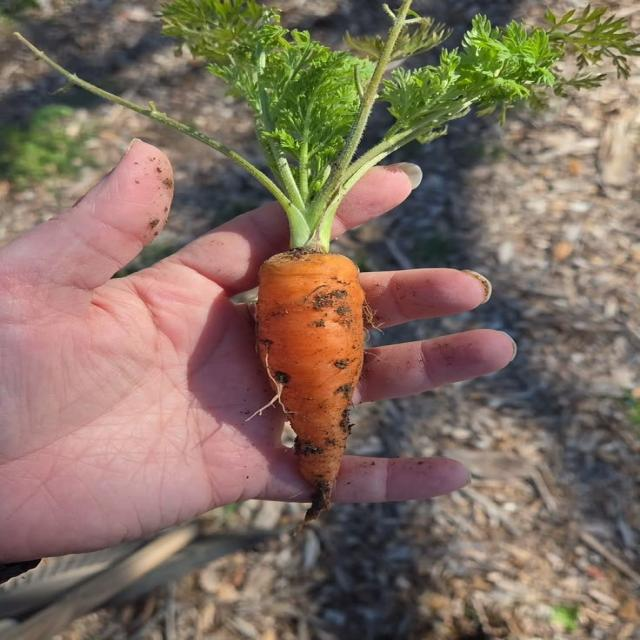carrot: (28, 0, 639, 518), (257, 250, 364, 521)
